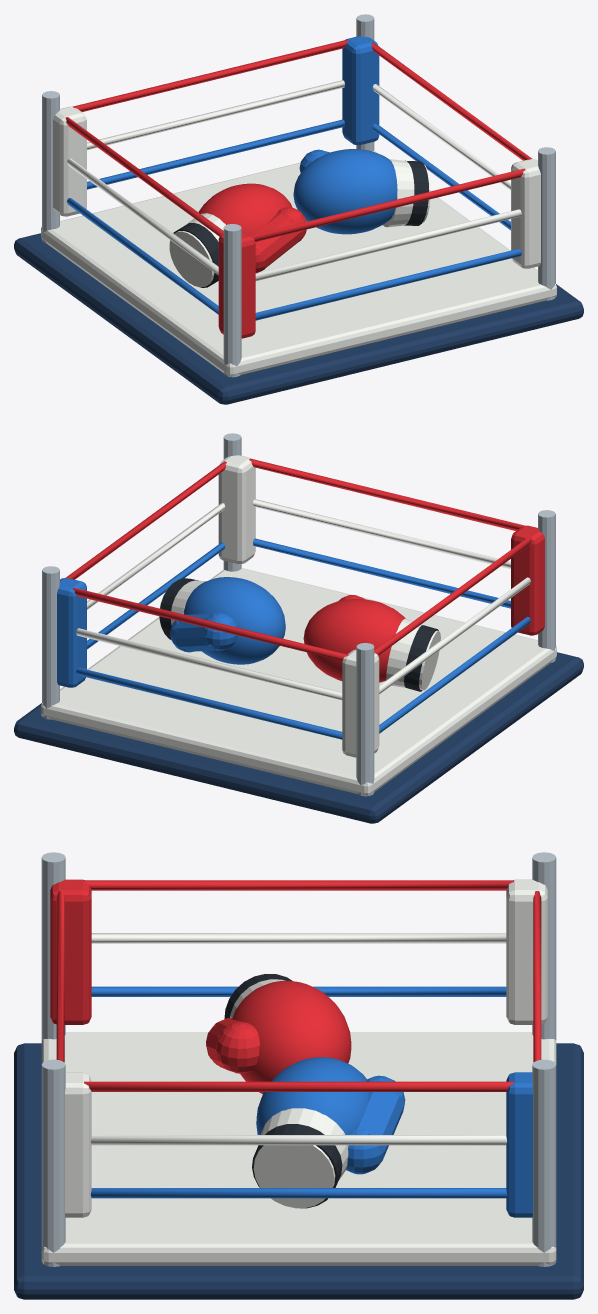
Rendered from boxing.glb.
3 views of the same model, one above another, from view 1: azimuth 30°, elevation 25°; view 2: azimuth 150°, elevation 25°; view 3: azimuth 270°, elevation 25° (orthographic). The views are drawn at different scales.
Parts seen in each view (by area): view 1: boxing; view 2: boxing; view 3: boxing.
Boxes of the visible parts, x1,y1,x2,y2 form: boxing: [14, 14, 583, 404]; boxing: [14, 433, 583, 823]; boxing: [14, 852, 583, 1299].
Size of the model in its own units: 0.33 by 0.142 by 0.33.
